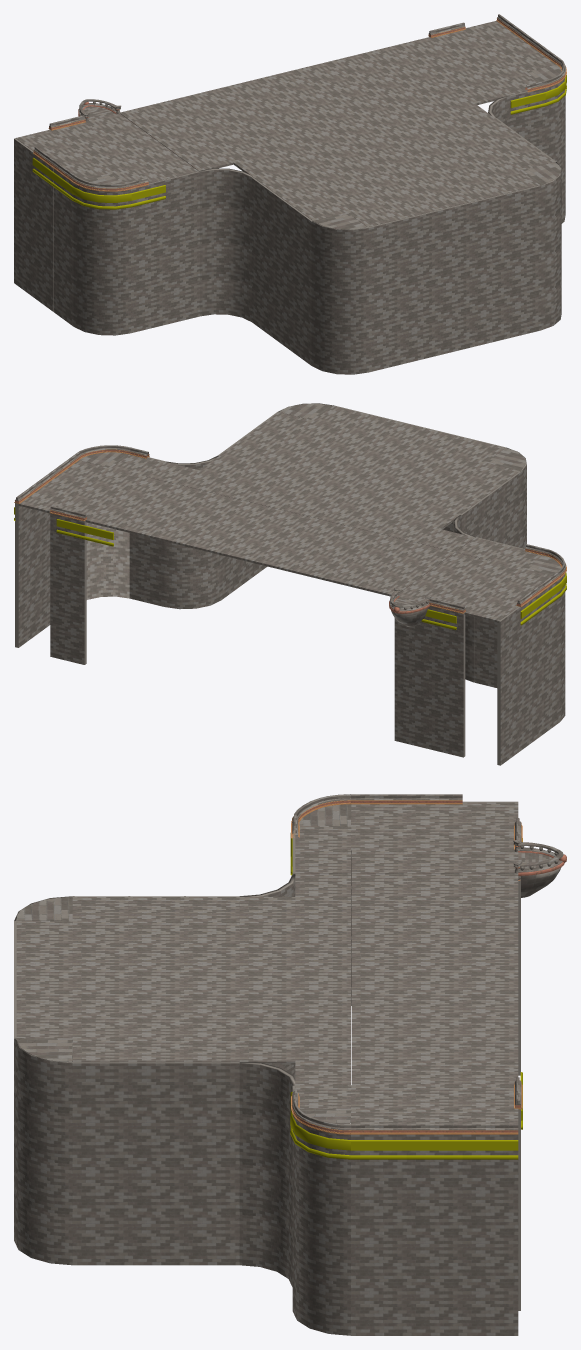
File: large_flat_platform.fbx
3 views of the same model, one above another, from view 1: azimuth 30°, elevation 25°; view 2: azimuth 150°, elevation 25°; view 3: azimuth 270°, elevation 25° (orthographic). The views are drawn at different scales.
Visible parts, largest first — view 1: SM_Bld_Castle_Wall_Corner_L_29, SM_Bld_Castle_Wall_Corner_L_27, SM_Bld_Castle_Wall_Corner_L_26, SM_Bld_Castle_Wall_Corner_L_28, SM_Bld_Castle_Wall_Corner_L_16, SM_Bld_Castle_Wall_Corner_L_13, SM_Bld_Castle_Wall_Corner_L_15, SM_Bld_Castle_Wall_Corner_L_21, SM_Bld_Castle_Wall_Corner_L_18, SM_Bld_Castle_Wall_Corner_L_20, SM_Bld_Castle_Wall_Corner_L_19, SM_Bld_Castle_Wall_Corner_L_14 (+152 smaller); view 2: SM_Bld_Castle_Wall_Corner_L_25, SM_Bld_Castle_Wall_Corner_L_17, SM_Bld_Castle_Wall_252, SM_Bld_Castle_Wall_246, SM_Bld_Castle_Wall_249, SM_Bld_Castle_Wall_245, SM_Bld_Castle_Wall_251, SM_Bld_Castle_Wall_248, SM_Bld_Castle_Wall_Corner_L_24, SM_Bld_Castle_Wall_287, SM_Bld_Castle_Wall_247, SM_Bld_Castle_Wall_244 (+123 smaller); view 3: SM_Bld_Castle_Wall_Corner_L_30, SM_Bld_Castle_Wall_Corner_L_32, SM_Bld_Castle_Wall_Corner_L_12, SM_Bld_Castle_Wall_Corner_L_33, SM_Bld_Castle_Wall_Corner_L_17, SM_Bld_Castle_Wall_Corner_L_31, SM_Bld_Castle_Wall_Corner_L_11, SM_Bld_Castle_Wall_313, SM_Bld_Castle_Wall_316, SM_Bld_Castle_Wall_314, SM_Bld_Castle_Wall_312, SM_Bld_Castle_Wall_310 (+120 smaller).
Part boxes in pixels (<box>): SM_Bld_Castle_Wall_Corner_L_29: <box>311,221,368,266</box>; SM_Bld_Castle_Wall_Corner_L_27: <box>311,294,368,338</box>; SM_Bld_Castle_Wall_Corner_L_26: <box>311,330,368,374</box>; SM_Bld_Castle_Wall_Corner_L_28: <box>311,258,368,302</box>; SM_Bld_Castle_Wall_Corner_L_16: <box>73,291,130,335</box>; SM_Bld_Castle_Wall_Corner_L_13: <box>73,219,130,263</box>; SM_Bld_Castle_Wall_Corner_L_15: <box>73,255,130,299</box>; SM_Bld_Castle_Wall_Corner_L_21: <box>199,168,253,213</box>; SM_Bld_Castle_Wall_Corner_L_18: <box>200,206,251,249</box>; SM_Bld_Castle_Wall_Corner_L_20: <box>200,278,251,321</box>; SM_Bld_Castle_Wall_Corner_L_19: <box>200,242,251,285</box>; SM_Bld_Castle_Wall_Corner_L_14: <box>73,183,130,227</box>; SM_Bld_Castle_Wall_Corner_L_25: <box>164,564,220,609</box>; SM_Bld_Castle_Wall_Corner_L_17: <box>86,560,129,599</box>; SM_Bld_Castle_Wall_252: <box>429,641,465,685</box>; SM_Bld_Castle_Wall_246: <box>429,713,465,757</box>; SM_Bld_Castle_Wall_249: <box>429,677,465,721</box>; SM_Bld_Castle_Wall_245: <box>50,621,86,664</box>; SM_Bld_Castle_Wall_251: <box>50,549,86,592</box>; SM_Bld_Castle_Wall_248: <box>50,585,86,628</box>; SM_Bld_Castle_Wall_Corner_L_24: <box>164,541,220,573</box>; SM_Bld_Castle_Wall_287: <box>129,562,164,606</box>; SM_Bld_Castle_Wall_247: <box>394,669,428,712</box>; SM_Bld_Castle_Wall_244: <box>394,705,428,748</box>; SM_Bld_Castle_Wall_Corner_L_30: <box>14,1038,72,1113</box>; SM_Bld_Castle_Wall_Corner_L_32: <box>14,1140,72,1214</box>; SM_Bld_Castle_Wall_Corner_L_12: <box>292,1211,350,1285</box>; SM_Bld_Castle_Wall_Corner_L_33: <box>14,1190,72,1265</box>; SM_Bld_Castle_Wall_Corner_L_17: <box>292,1261,350,1335</box>; SM_Bld_Castle_Wall_Corner_L_31: <box>14,1089,72,1164</box>; SM_Bld_Castle_Wall_Corner_L_11: <box>292,1160,350,1234</box>; SM_Bld_Castle_Wall_313: <box>72,1062,128,1113</box>; SM_Bld_Castle_Wall_316: <box>72,1214,128,1265</box>; SM_Bld_Castle_Wall_314: <box>72,1113,128,1164</box>; SM_Bld_Castle_Wall_312: <box>128,1214,183,1265</box>; SM_Bld_Castle_Wall_310: <box>128,1113,183,1164</box>.
Bounding box in the file's own units: 70.89 × 20.98 × 49.63.
